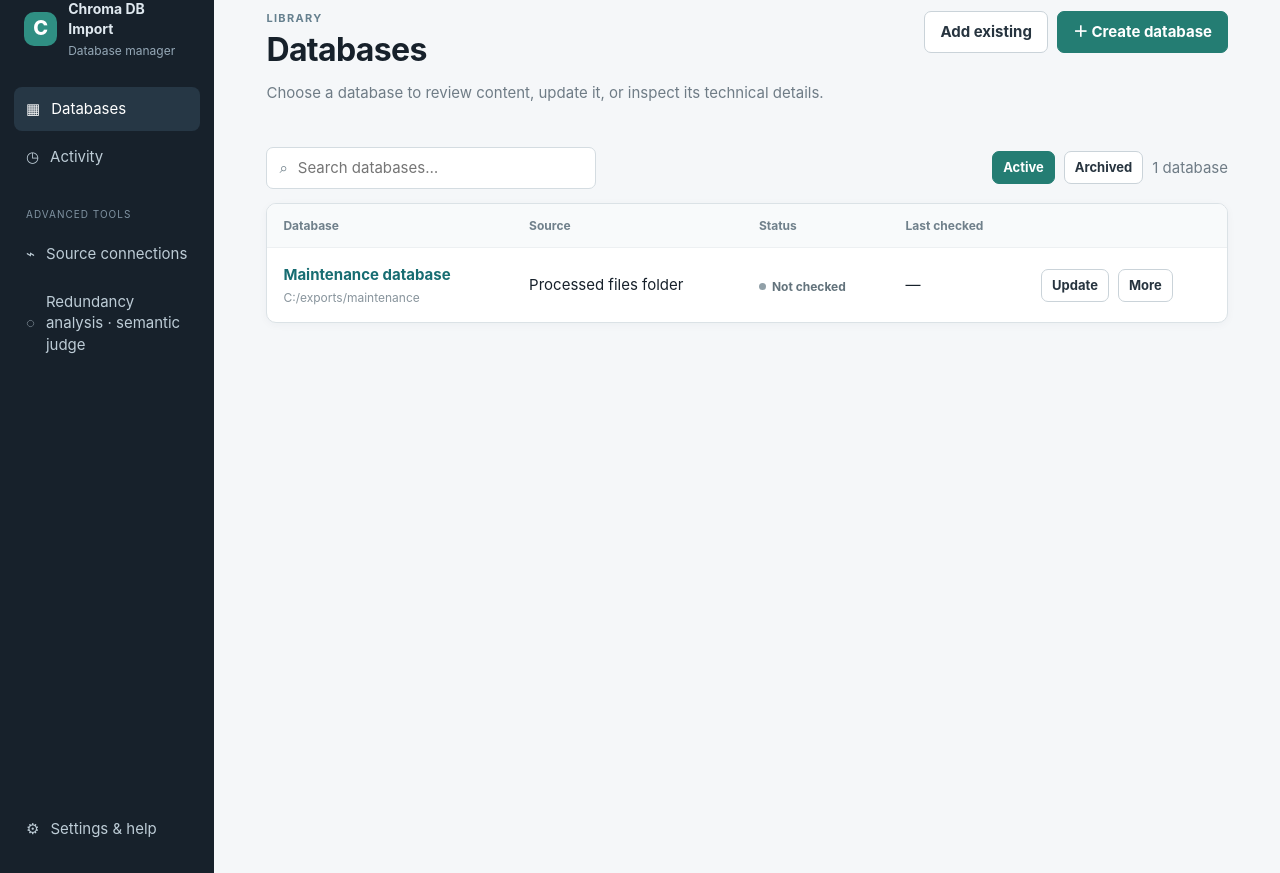
Test: modern database creation flow › shows exact maintenance records and recovery scope before deletion
Click the button "Maintenance database".
click(367, 275)  # box [283, 264, 451, 286]
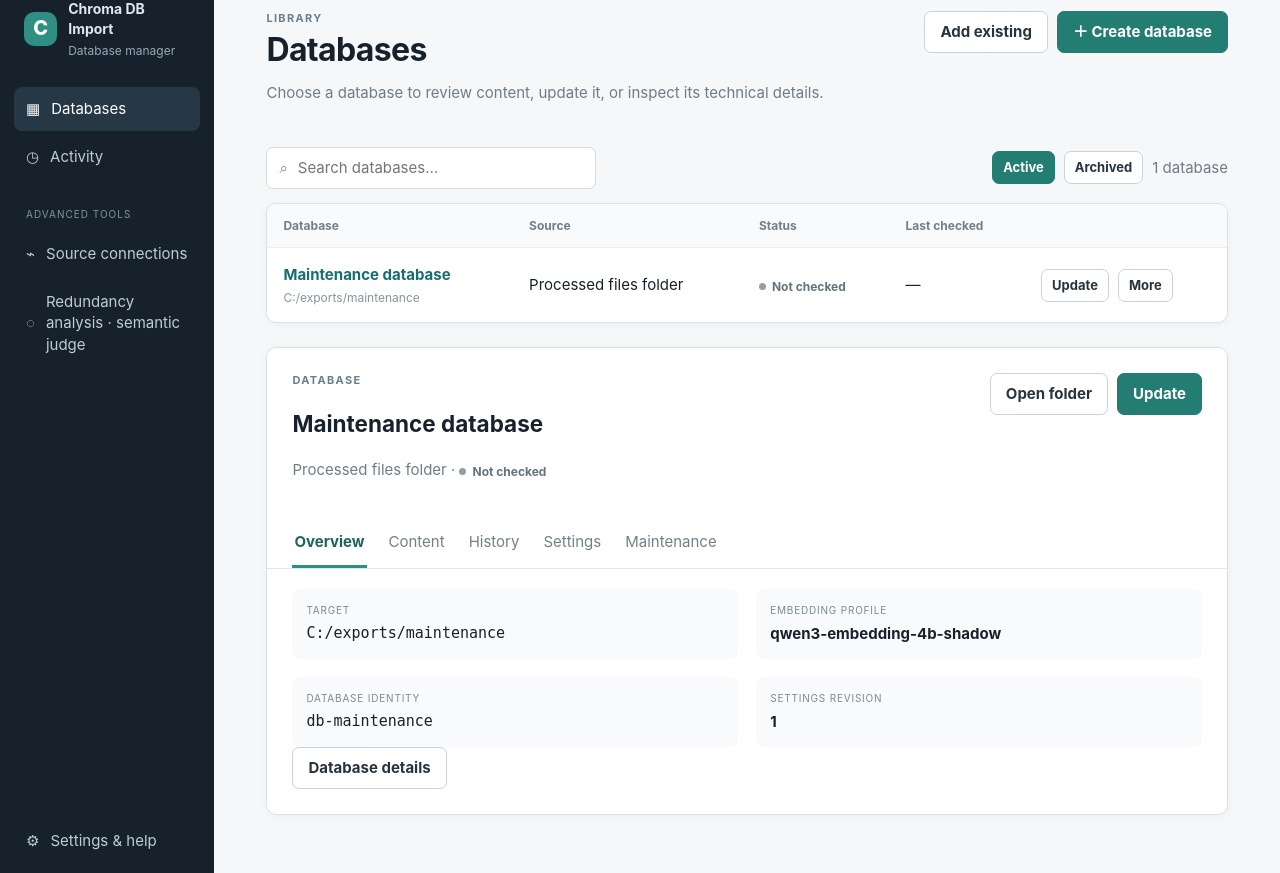
Click the tab "Maintenance".
click(671, 544)  # box [623, 521, 719, 568]
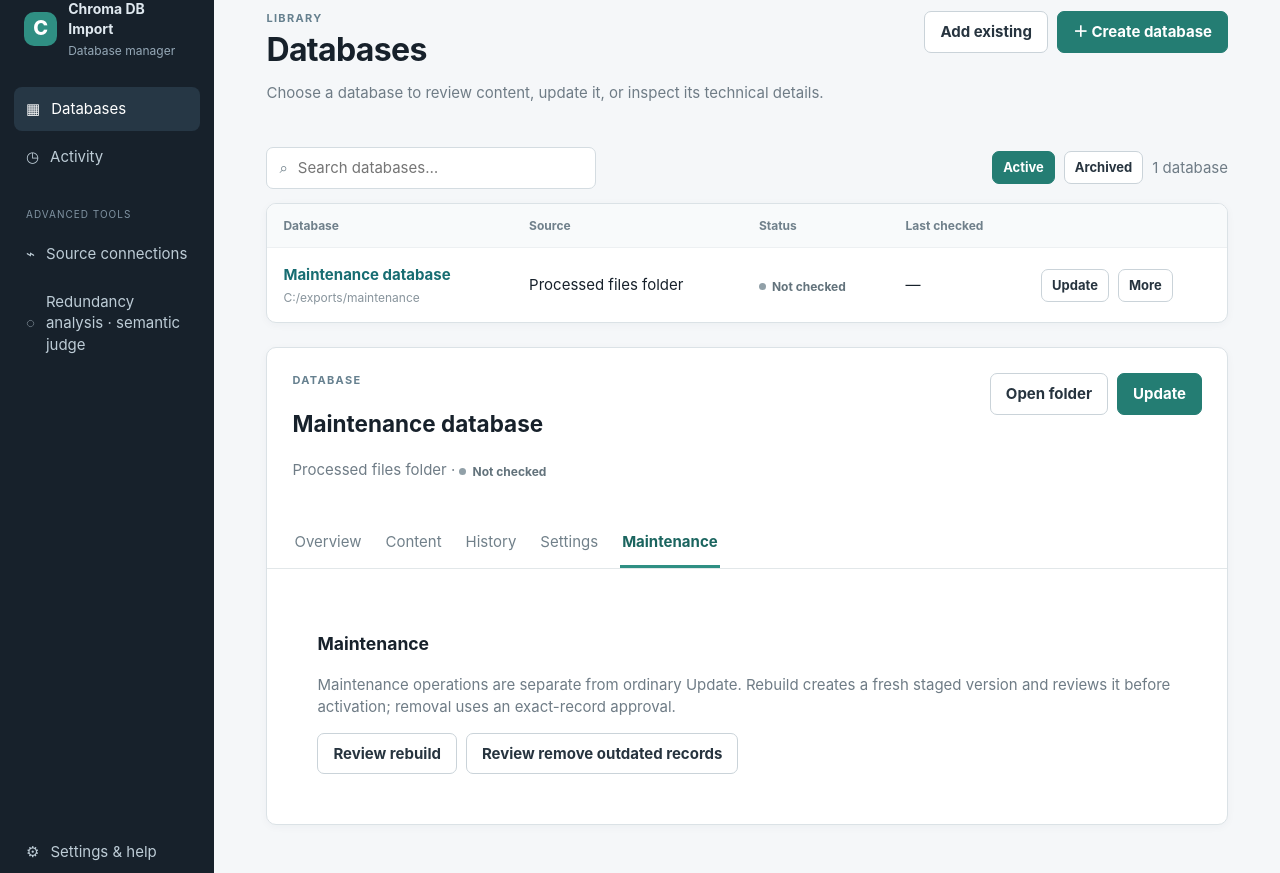
Click the button "Review remove outdated records".
click(602, 754)  # box [466, 733, 738, 774]
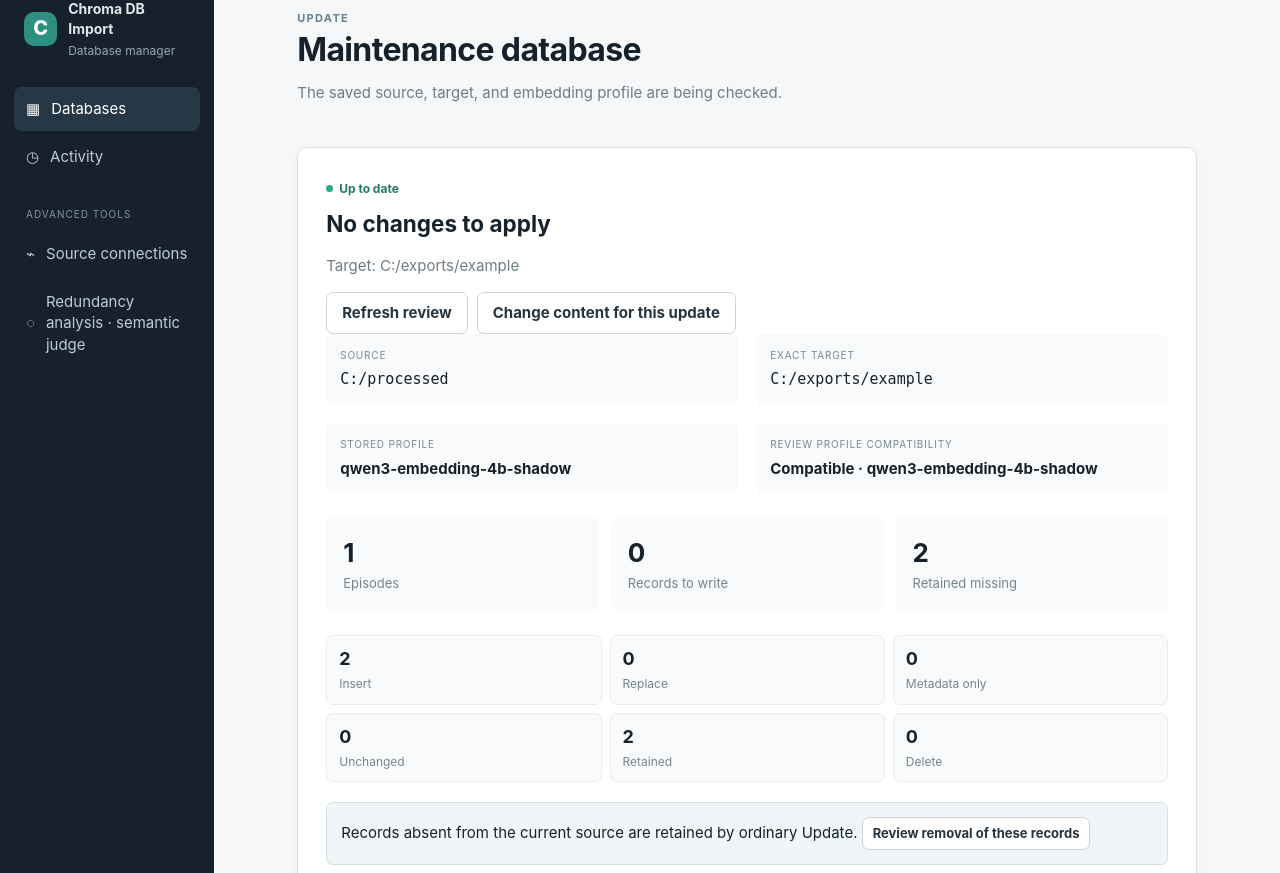
Expected: the button "Review removal of these records" is shown
Click the button "Review removal of these records".
click(976, 834)  # box [862, 817, 1090, 850]
(page scrolled)
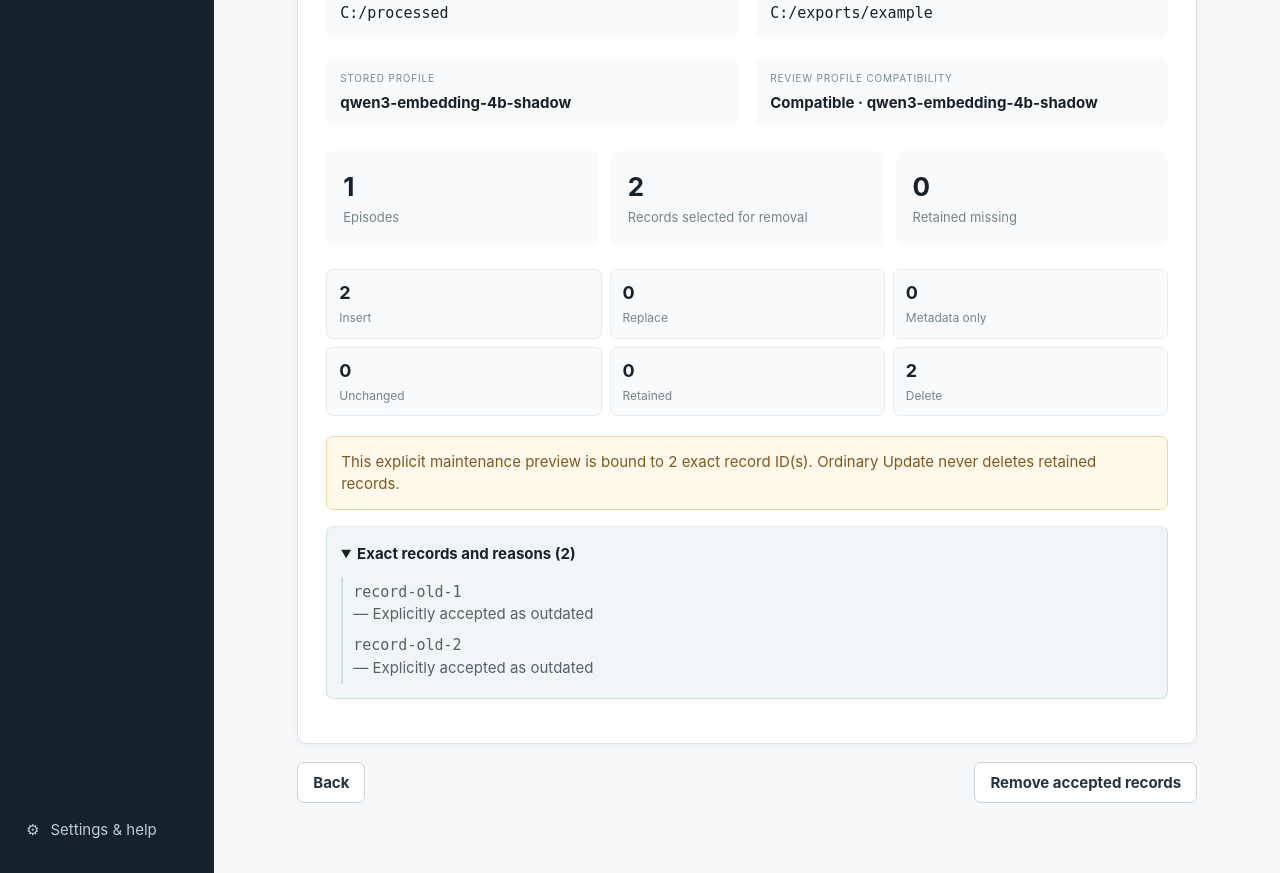
Expected: the heading "Exact records and reasons (2)" is shown, [357, 544, 576, 563]
Expected: the text "record-old-1" is shown, [353, 583, 462, 601]
Expected: the number of list items "record-old-1 — Explicitly accepted as outdated" is 2, [341, 577, 1153, 630]; [341, 630, 1153, 684]
